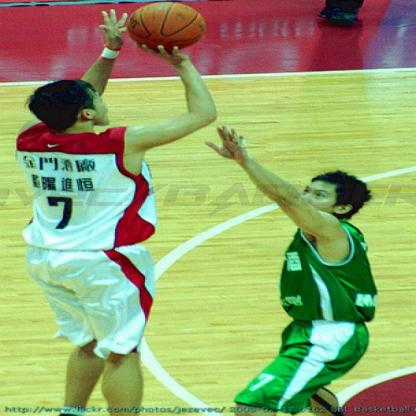basketball: (128, 1, 206, 50)
